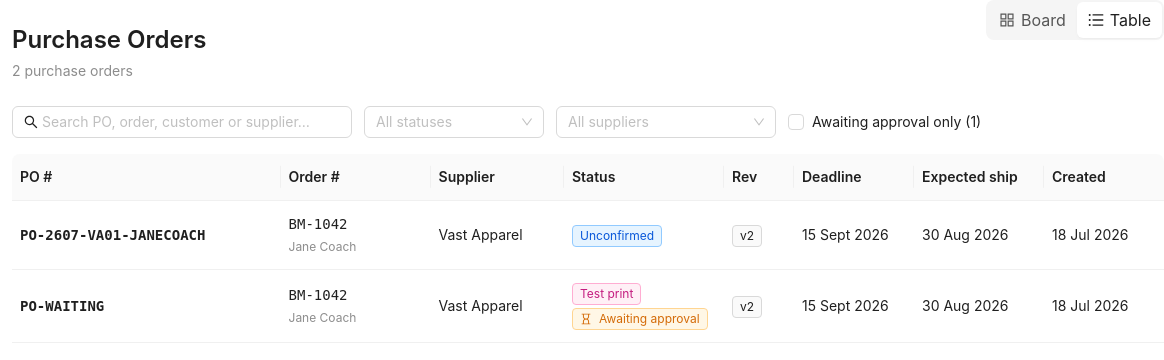
Test: PurchaseOrdersView — awaiting approval › counts what is waiting, and filters down to only those
This screenshot has width=1164, height=360.
Expected: the text "PO-2607-VA01-JANECOACH" is shown, [20,227,205,243]
Click the checkbox labelled "Awaiting approval only (1)" at [889, 122], box [788,111,989,133]
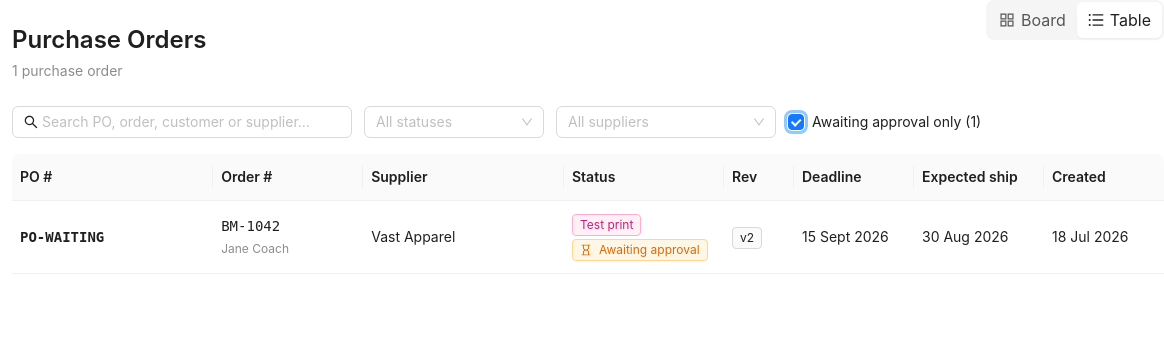
Expected: the text "PO-WAITING" is shown, [20,229,104,245]
Expected: the link "PO-2607-VA01-JANECOACH" is gone
